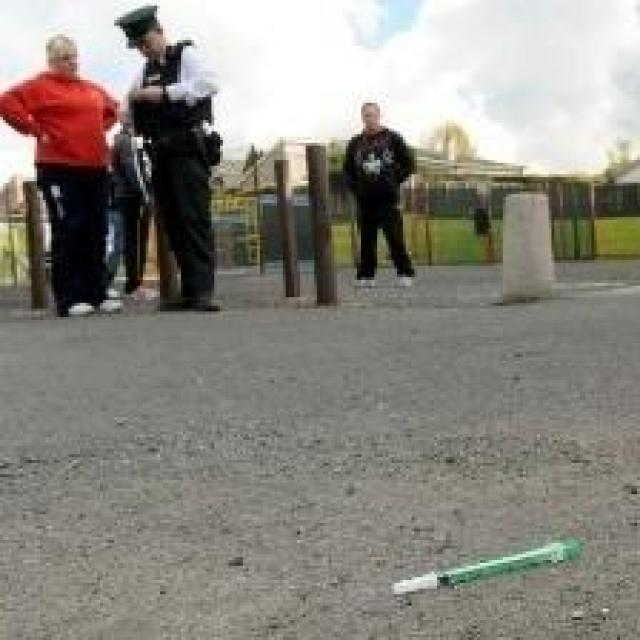syringe: (380, 538, 604, 594)
